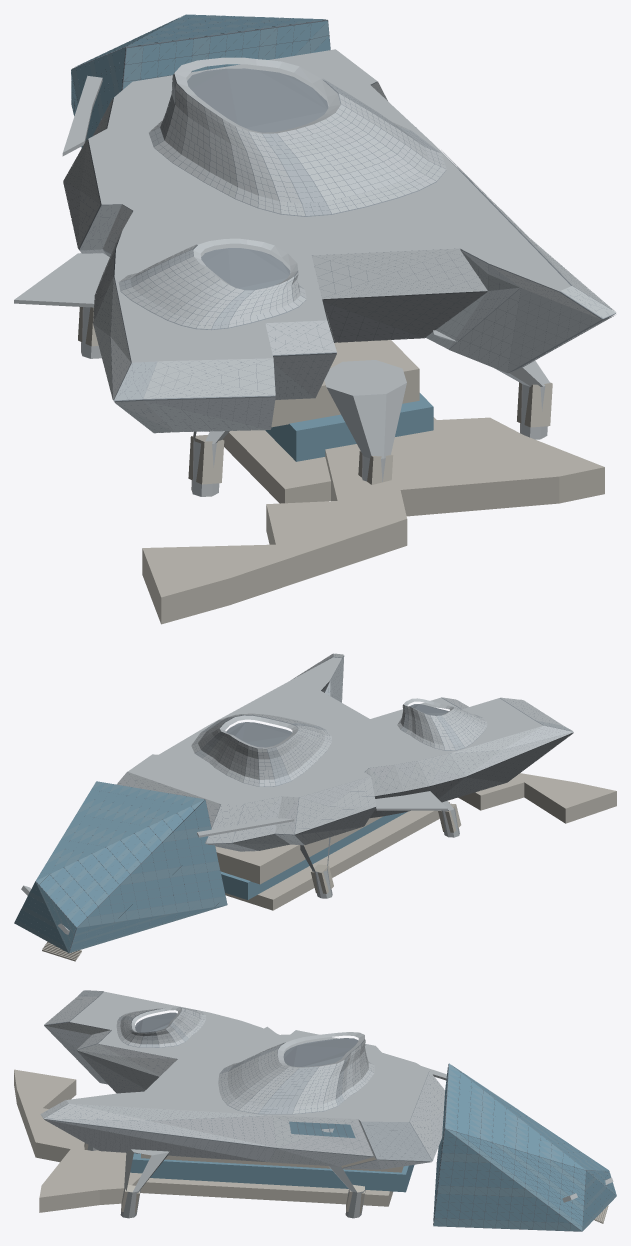
Rendered from musee-des-confluences-near.glb.
3 views of the same model, one above another, from view 1: azimuth 30°, elevation 25°; view 2: azimuth 150°, elevation 25°; view 3: azimuth 270°, elevation 25° (orthographic). The views are drawn at different scales.
Parts seen in each view (by area): view 1: musee-des-confluences-0-metal, musee-des-confluences-0-concrete, musee-des-confluences-0-seam, musee-des-confluences-0-facet, musee-des-confluences-0-glass, musee-des-confluences-0-soffit, musee-des-confluences-0-glassPale, musee-des-confluences-0-frame; view 2: musee-des-confluences-0-metal, musee-des-confluences-0-glass, musee-des-confluences-0-concrete, musee-des-confluences-0-glassPale, musee-des-confluences-0-seam, musee-des-confluences-0-facet, musee-des-confluences-0-soffit, musee-des-confluences-0-frame; view 3: musee-des-confluences-0-metal, musee-des-confluences-0-glass, musee-des-confluences-0-concrete, musee-des-confluences-0-facet, musee-des-confluences-0-seam, musee-des-confluences-0-glassPale, musee-des-confluences-0-soffit, musee-des-confluences-0-frame, musee-des-confluences-0-glow.
Boxes of the visible parts, bbox=[...] form: musee-des-confluences-0-metal: bbox=[14, 49, 616, 496]; musee-des-confluences-0-concrete: bbox=[78, 307, 604, 624]; musee-des-confluences-0-seam: bbox=[64, 68, 615, 431]; musee-des-confluences-0-facet: bbox=[79, 74, 601, 496]; musee-des-confluences-0-glass: bbox=[71, 14, 433, 461]; musee-des-confluences-0-soffit: bbox=[80, 249, 614, 432]; musee-des-confluences-0-glassPale: bbox=[71, 15, 329, 147]; musee-des-confluences-0-frame: bbox=[72, 16, 416, 128]; musee-des-confluences-0-metal: bbox=[21, 653, 573, 934]; musee-des-confluences-0-glass: bbox=[16, 783, 407, 951]; musee-des-confluences-0-concrete: bbox=[42, 773, 616, 961]; musee-des-confluences-0-glassPale: bbox=[14, 781, 227, 952]; musee-des-confluences-0-seam: bbox=[118, 654, 573, 850]; musee-des-confluences-0-facet: bbox=[195, 655, 573, 897]; musee-des-confluences-0-soffit: bbox=[206, 681, 506, 850]; musee-des-confluences-0-frame: bbox=[17, 784, 227, 953]; musee-des-confluences-0-metal: bbox=[41, 991, 613, 1218]; musee-des-confluences-0-glass: bbox=[130, 1068, 615, 1230]; musee-des-confluences-0-concrete: bbox=[14, 1069, 608, 1223]; musee-des-confluences-0-facet: bbox=[44, 990, 431, 1218]; musee-des-confluences-0-seam: bbox=[41, 991, 442, 1168]; musee-des-confluences-0-glassPale: bbox=[433, 1063, 616, 1231]; musee-des-confluences-0-soffit: bbox=[44, 1025, 431, 1169]; musee-des-confluences-0-frame: bbox=[296, 1064, 614, 1231]; musee-des-confluences-0-glow: bbox=[289, 1121, 355, 1138].
Size of the model in its own units: 98.16 by 41 by 158.
